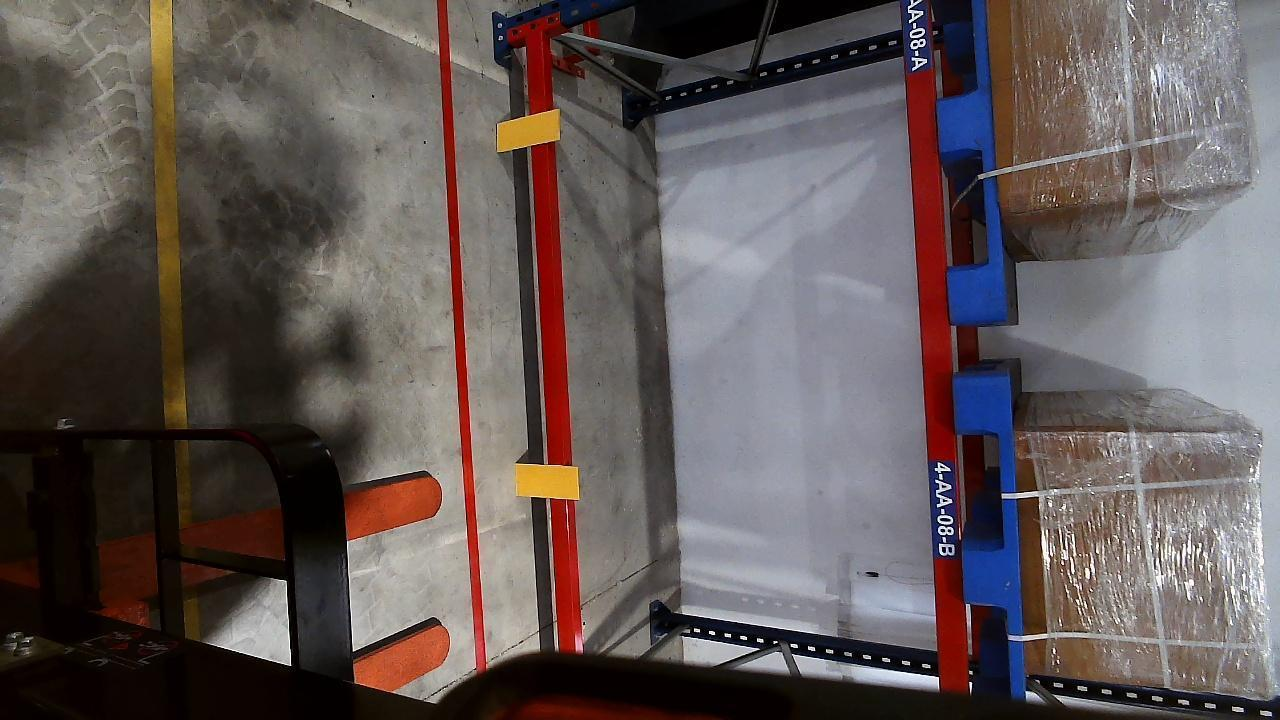red_line: (437, 0, 500, 666)
yellow_line: (147, 2, 187, 427)
